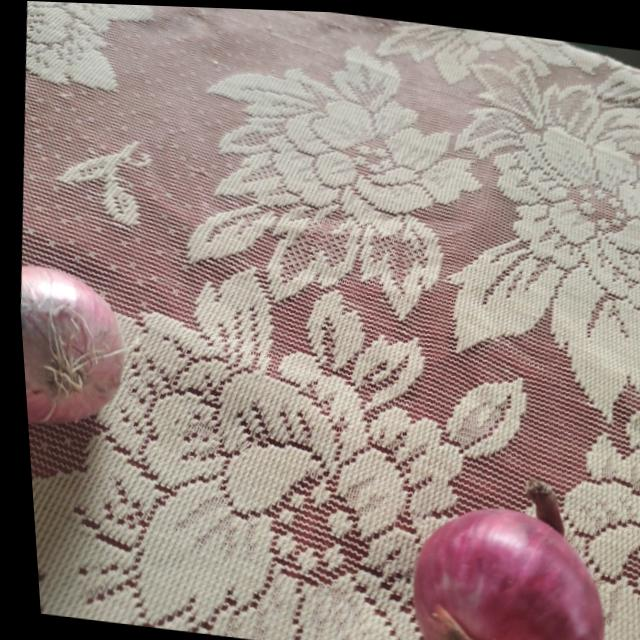onion: (391, 474, 603, 640), (14, 267, 125, 434)
